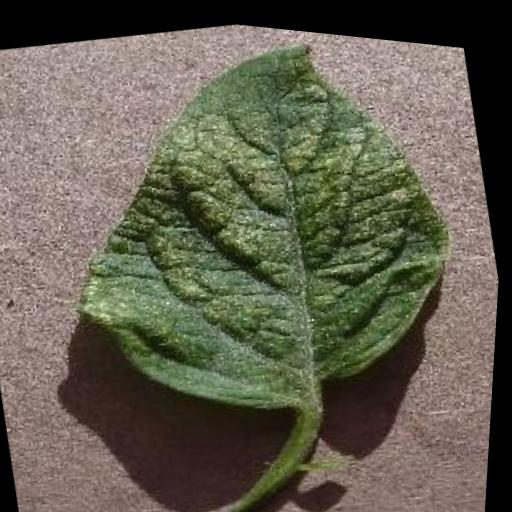Spider Mites: (33, 4, 490, 456)
